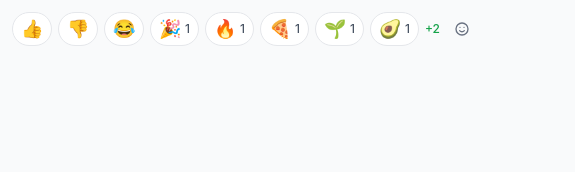
ReviewReactionBar › given more other emojis than fit › collapses the rest into a chip that expands in place
Expected: the text "🍋" is not shown
Click the button named "2 weitere Reaktionen anzeigen" at x=432, y=29, box x1=425 y1=21 x2=440 y2=37
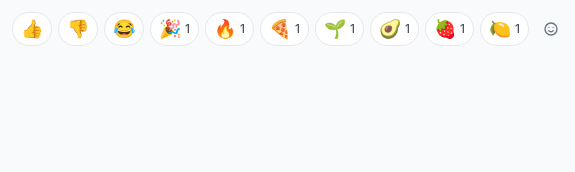
Expected: the text "🍋" is shown, x1=489 y1=15 x2=511 y2=43
